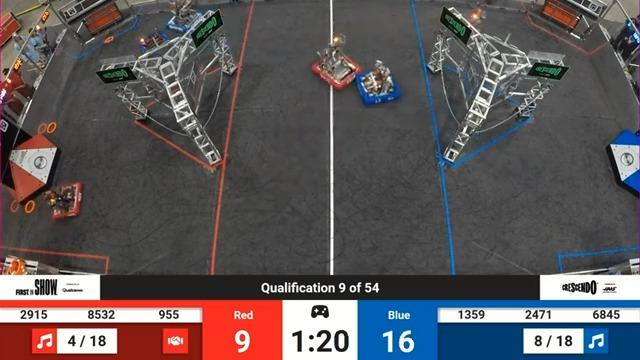robot: (312, 34, 364, 94), (356, 57, 407, 112), (42, 180, 86, 222), (159, 0, 206, 35), (133, 26, 170, 60), (459, 0, 491, 34)
